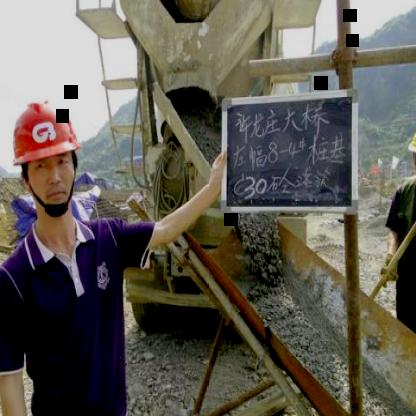helmet: (7, 83, 88, 223)
